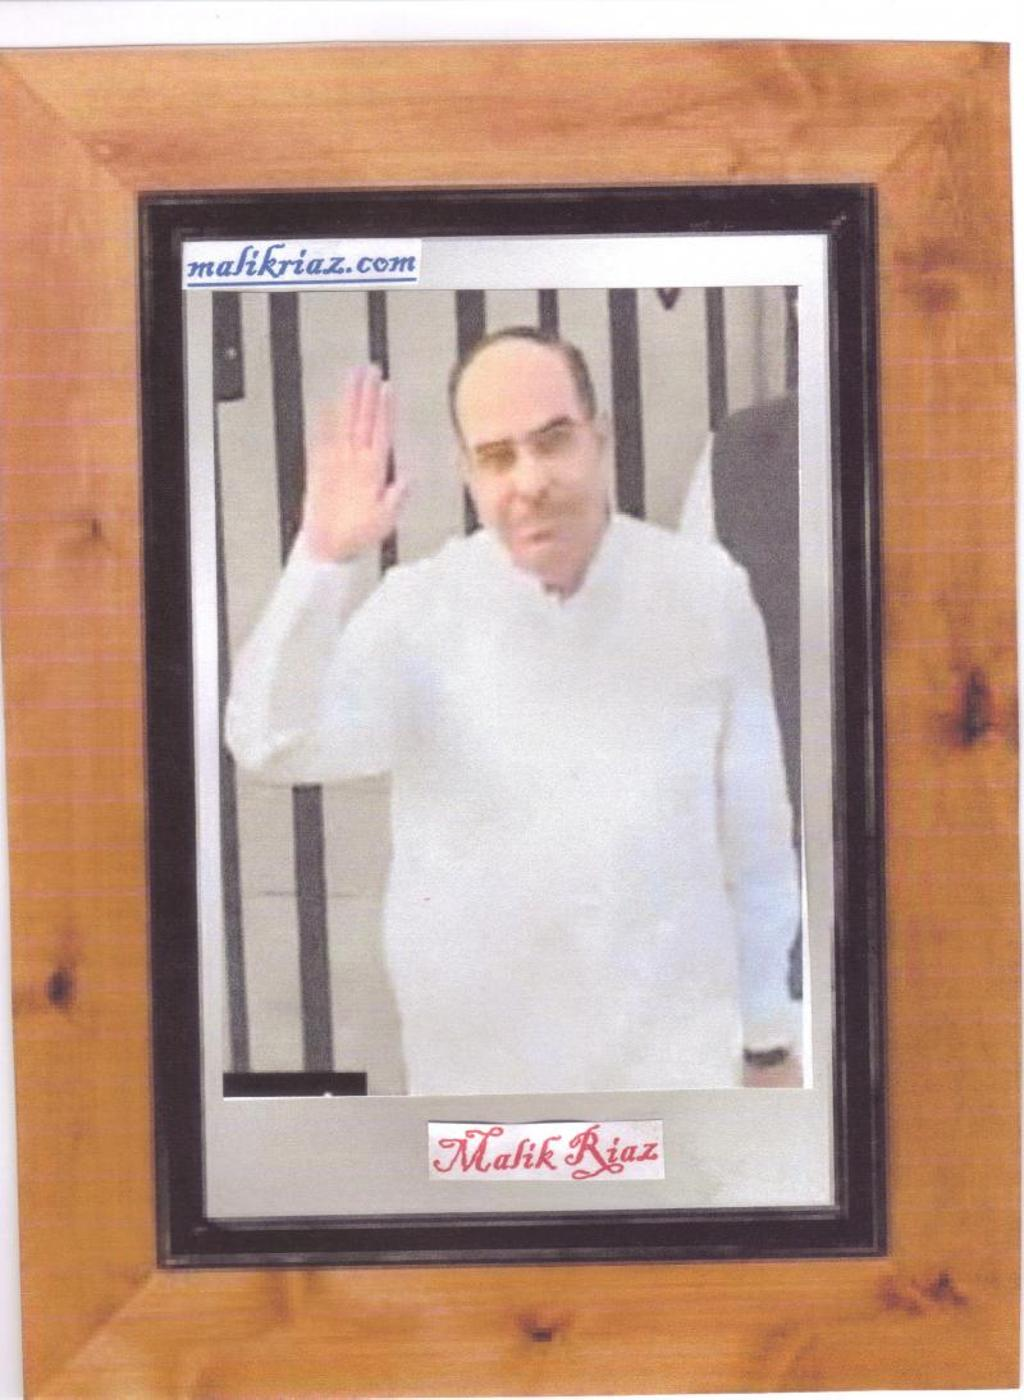face: (459, 358, 601, 555)
